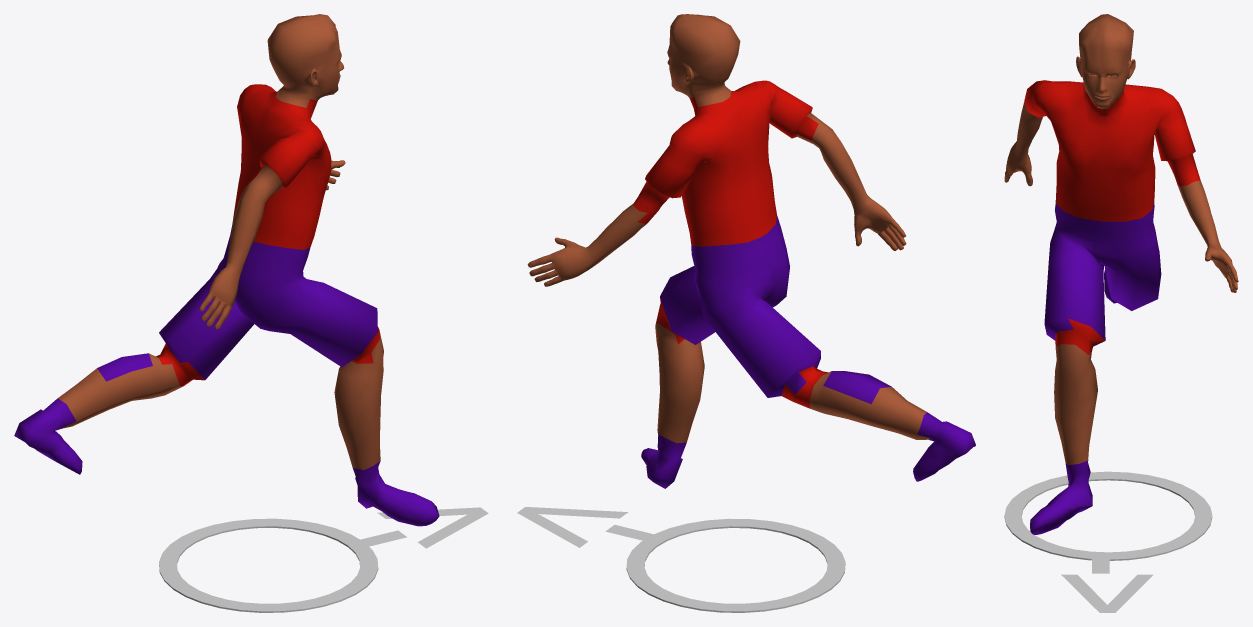
Rendered from player_000017.obj.
The picture shows the model from 3 angles, left to right: view 1: azimuth 30°, elevation 25°; view 2: azimuth 150°, elevation 25°; view 3: azimuth 270°, elevation 25°; orthographic projection. The views are drawn at different scales.
Parts seen in each view (by area): view 1: soccerplayer.002_mesh.003, Circle, Text.001_Mesh.001; view 2: soccerplayer.002_mesh.003, Circle, Text.001_Mesh.001; view 3: soccerplayer.002_mesh.003, Circle, Text.001_Mesh.001.
Boxes of the visible parts, left/top/right/bottom form: soccerplayer.002_mesh.003: left=14, top=14, right=439, bottom=526; Circle: left=159, top=518, right=378, bottom=612; Text.001_Mesh.001: left=356, top=507, right=488, bottom=548; soccerplayer.002_mesh.003: left=527, top=14, right=975, bottom=488; Circle: left=626, top=518, right=845, bottom=612; Text.001_Mesh.001: left=517, top=507, right=656, bottom=547; soccerplayer.002_mesh.003: left=1004, top=14, right=1238, bottom=534; Circle: left=1004, top=471, right=1212, bottom=560; Text.001_Mesh.001: left=1061, top=554, right=1153, bottom=612.
Size of the model in its own units: 2.62 by 2.95 by 1.22.
